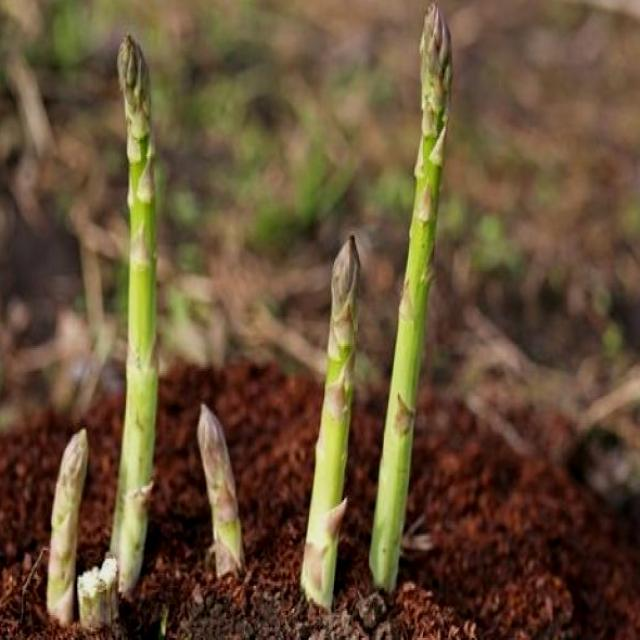aspargus: (370, 3, 454, 597), (300, 236, 359, 610)
